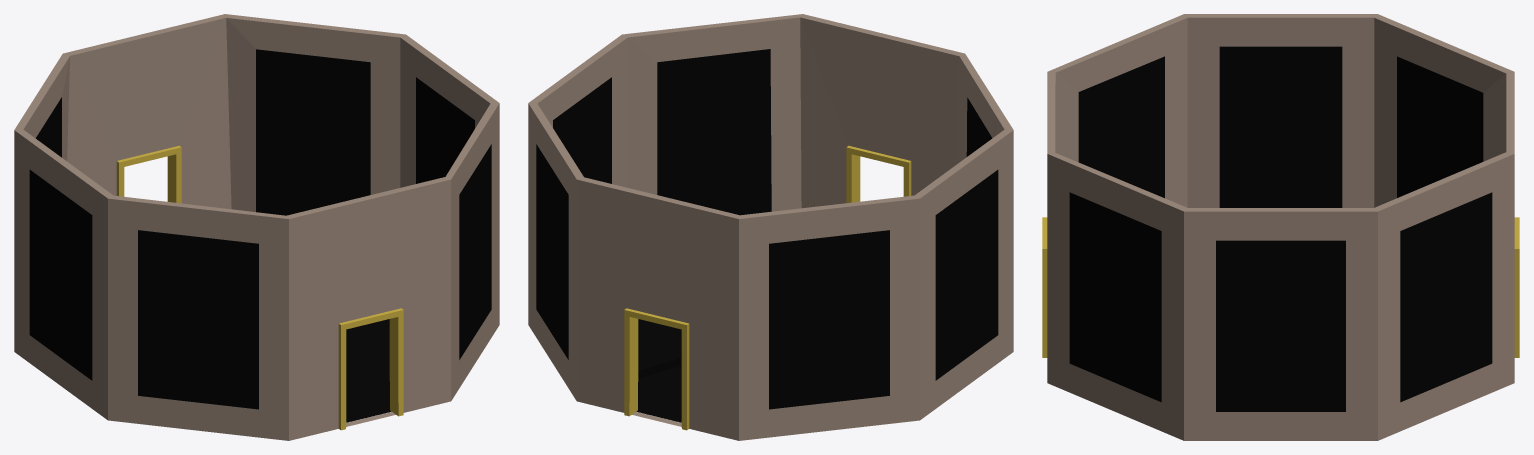
Rendered from Room 10m 8s 2 door - 3x3-room6.fbx.
The picture shows the model from 3 angles, left to right: view 1: azimuth 30°, elevation 25°; view 2: azimuth 150°, elevation 25°; view 3: azimuth 270°, elevation 25°; orthographic projection. The views are drawn at different scales.
Visible parts, largest first — view 1: Room 10m 8s 2 DOOR.001; view 2: Room 10m 8s 2 DOOR.001; view 3: Room 10m 8s 2 DOOR.001.
Part boxes in pixels (x1=…): Room 10m 8s 2 DOOR.001: x1=14, y1=14, x2=499, y2=440; Room 10m 8s 2 DOOR.001: x1=528, y1=14, x2=1013, y2=440; Room 10m 8s 2 DOOR.001: x1=1042, y1=14, x2=1519, y2=440.
Size of the model in its own units: 9.24 by 5.01 by 9.42.
